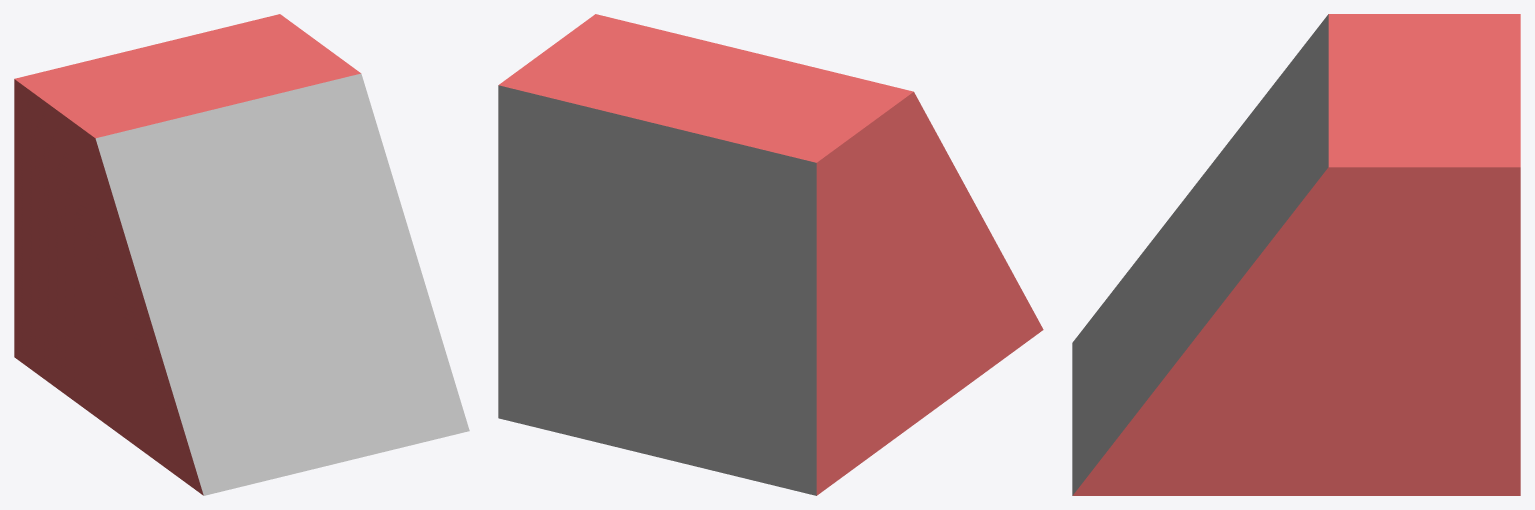
The model's file is tenkaizu1.glb.
3 views of the same model, side by side, from view 1: azimuth 30°, elevation 25°; view 2: azimuth 150°, elevation 25°; view 3: azimuth 270°, elevation 25° (orthographic). The views are drawn at different scales.
Parts seen in each view (by area): view 1: Part1; view 2: Part1; view 3: Part1.
Boxes of the visible parts, bbox=[...] form: Part1: bbox=[14, 14, 469, 495]; Part1: bbox=[498, 14, 1043, 495]; Part1: bbox=[1072, 14, 1520, 495].
Size of the model in its own units: 0.017 by 0.017 by 0.021.
